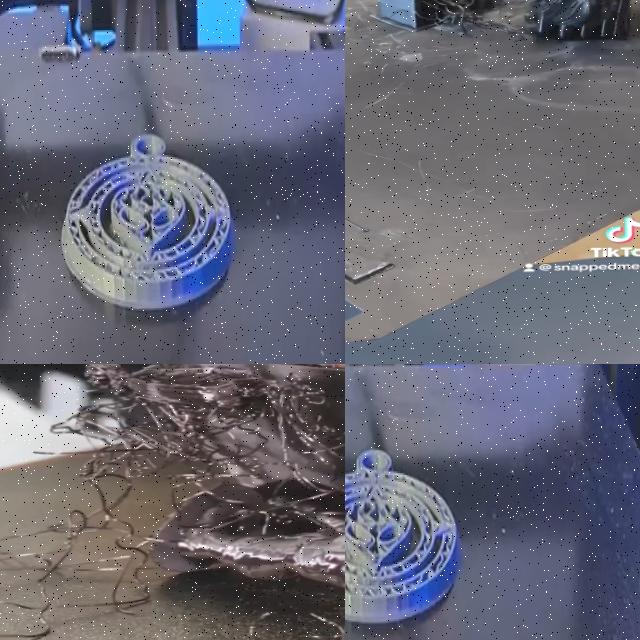spaghetti: (0, 364, 345, 640), (461, 0, 640, 44)
